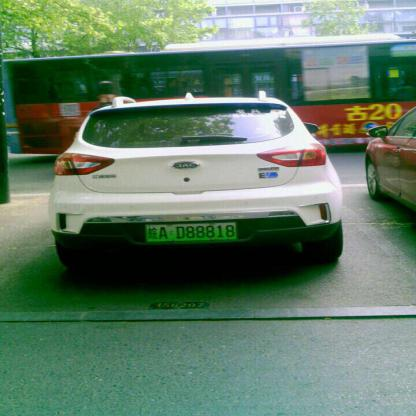lp: (145, 221, 236, 240)
